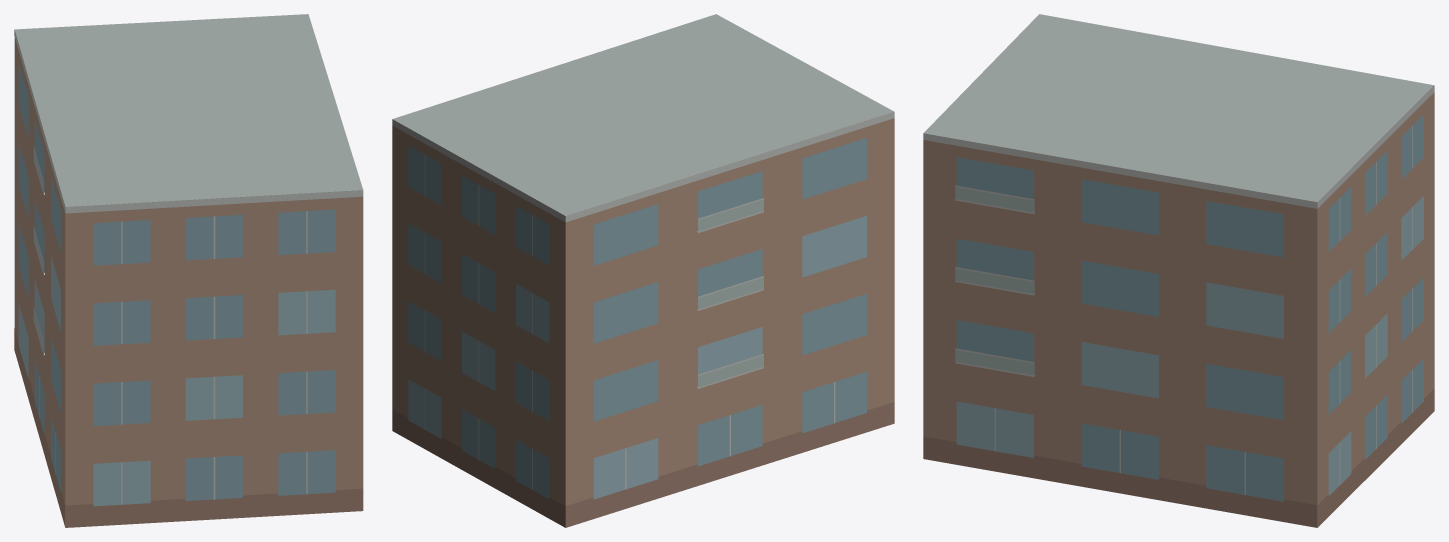
The model's file is survey-upis-32871086.glb.
The picture shows the model from 3 angles, left to right: view 1: azimuth 30°, elevation 25°; view 2: azimuth 150°, elevation 25°; view 3: azimuth 270°, elevation 25°; orthographic projection. The views are drawn at different scales.
Visible parts, largest first — view 1: survey-upis-32871086.tmp; view 2: survey-upis-32871086.tmp; view 3: survey-upis-32871086.tmp.
Boxes of the visible parts, x1,y1,x2,y2 form: survey-upis-32871086.tmp: [14, 14, 363, 527]; survey-upis-32871086.tmp: [392, 14, 894, 527]; survey-upis-32871086.tmp: [923, 14, 1434, 527].
Bounding box in the file's own units: 14.88 × 12 × 17.09.
